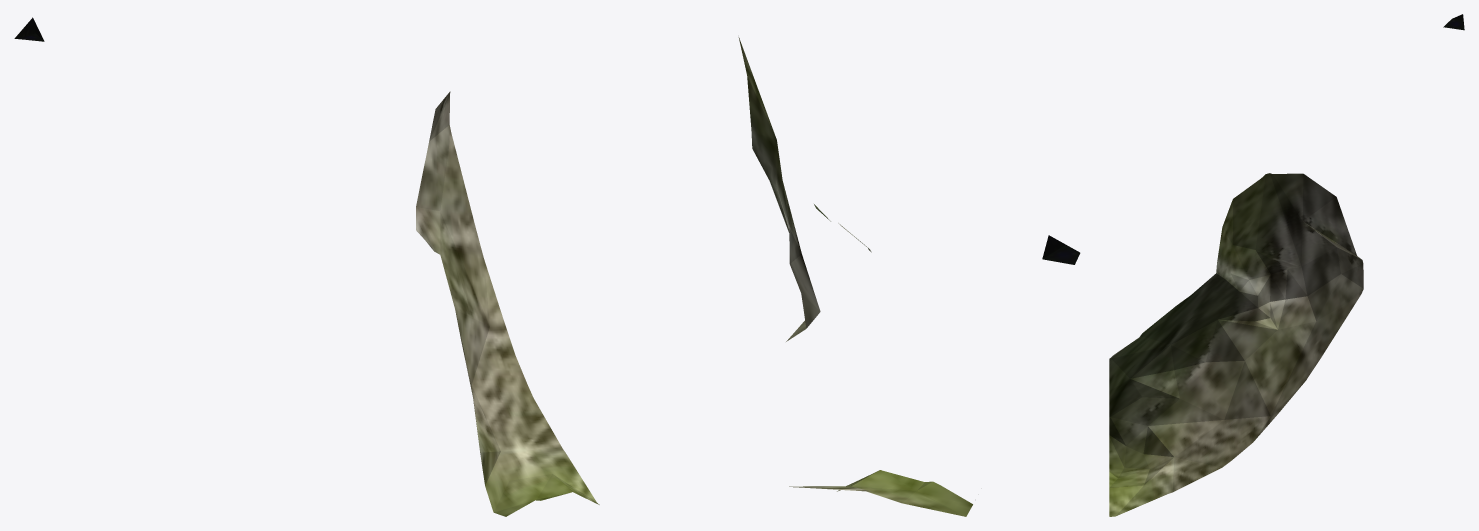
3 renders of one model, left to right at view 1: azimuth 30°, elevation 25°; view 2: azimuth 150°, elevation 25°; view 3: azimuth 270°, elevation 25°, orthographic. The views are drawn at different scales.
Size of the model in its own units: 1.77 by 1.89 by 1.71.
Materials: 1 (1 with a texture image).
